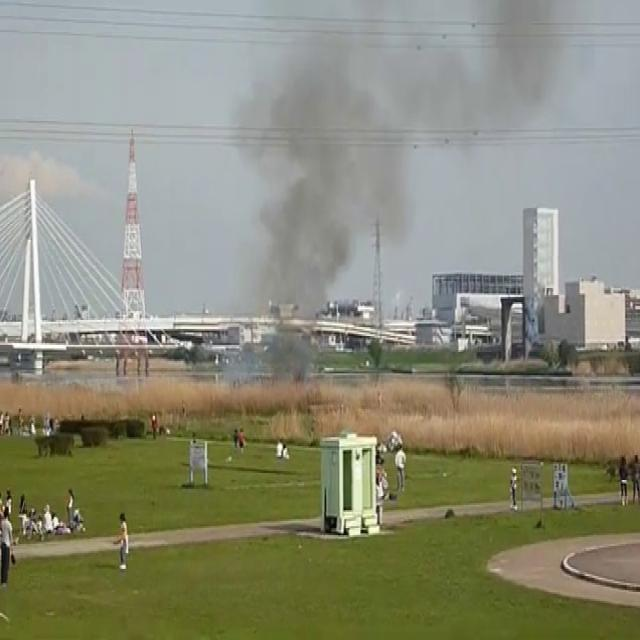Smoke: (222, 0, 640, 313)
